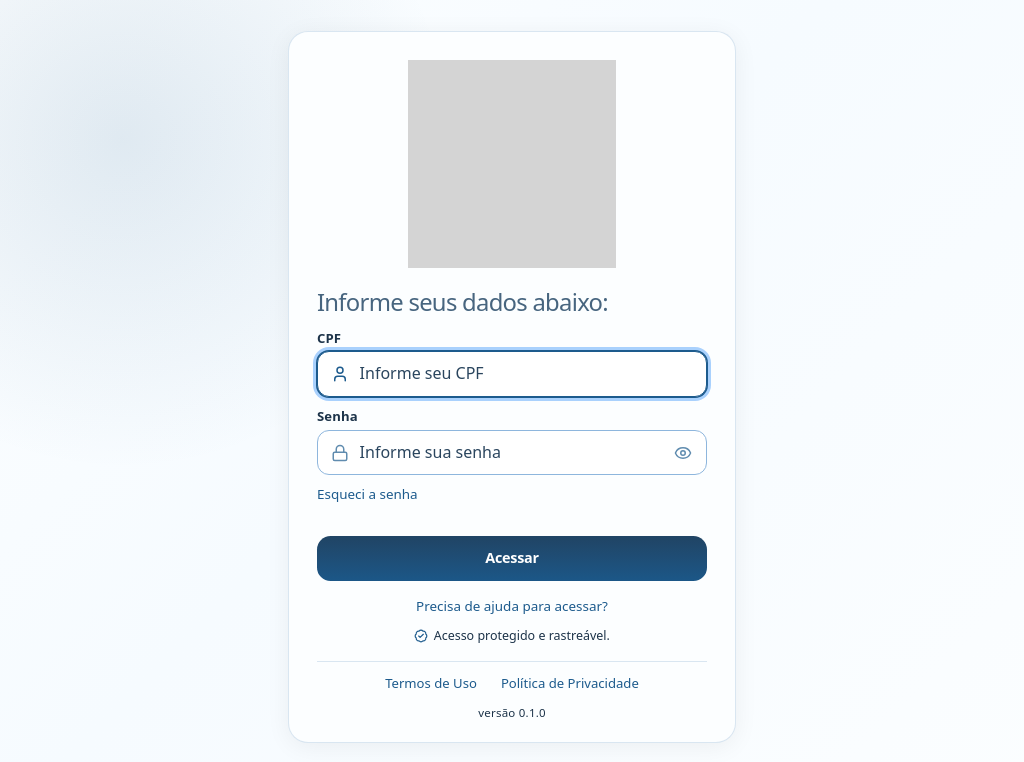
it: LoginPageClient › bloqueia submit sem token do Turnstile e mostra mensagem explícita
Type "12345678900" into the field labelled "CPF".
click(512, 374); type("12345678900")  # box [317, 351, 707, 397]
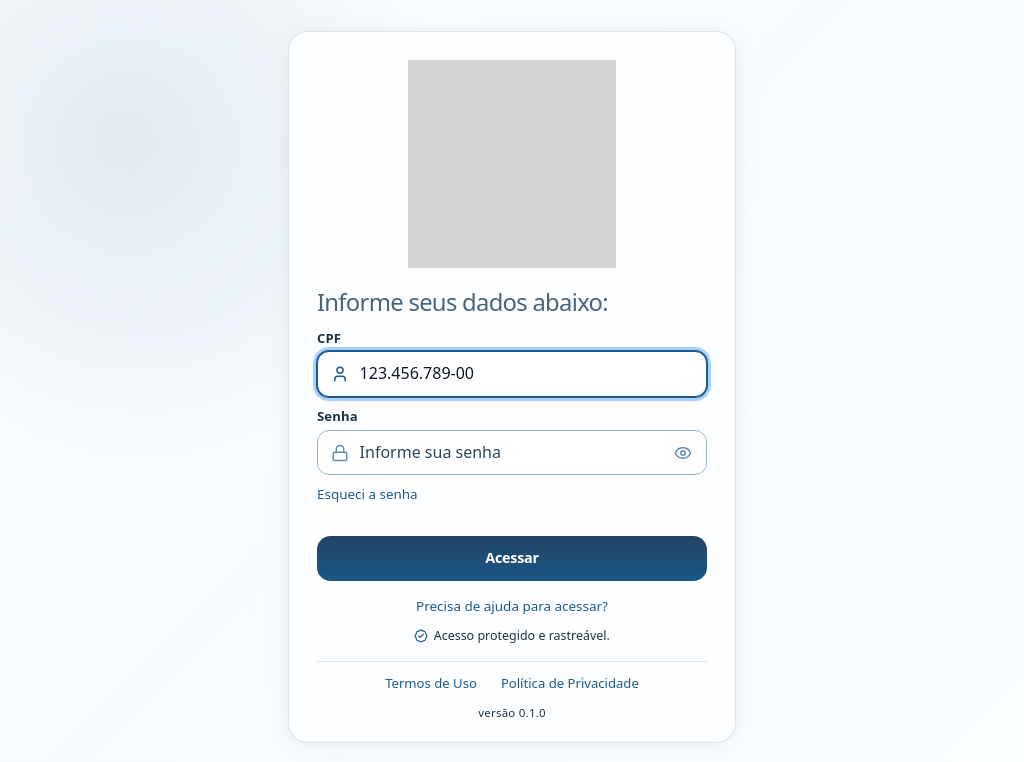
Type "Senha@123" into the password field labelled "Senha".
click(512, 452); type("Senha@123")  # box [317, 430, 707, 475]
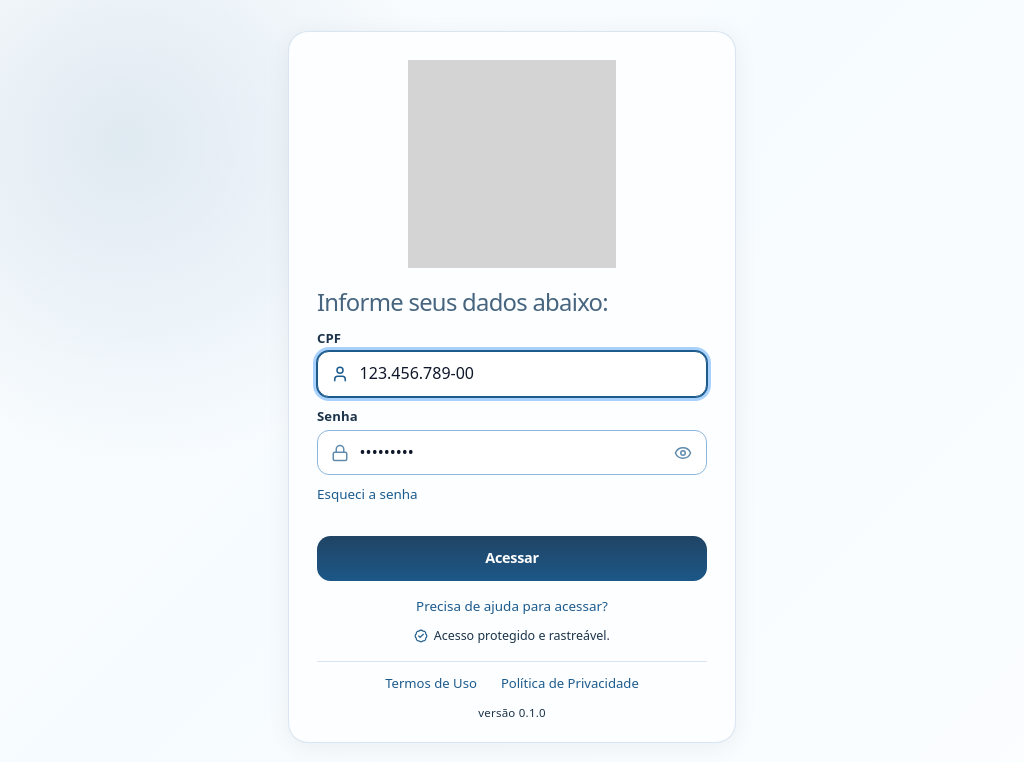
Click the button "Acessar".
click(512, 558)  # box [317, 536, 707, 581]
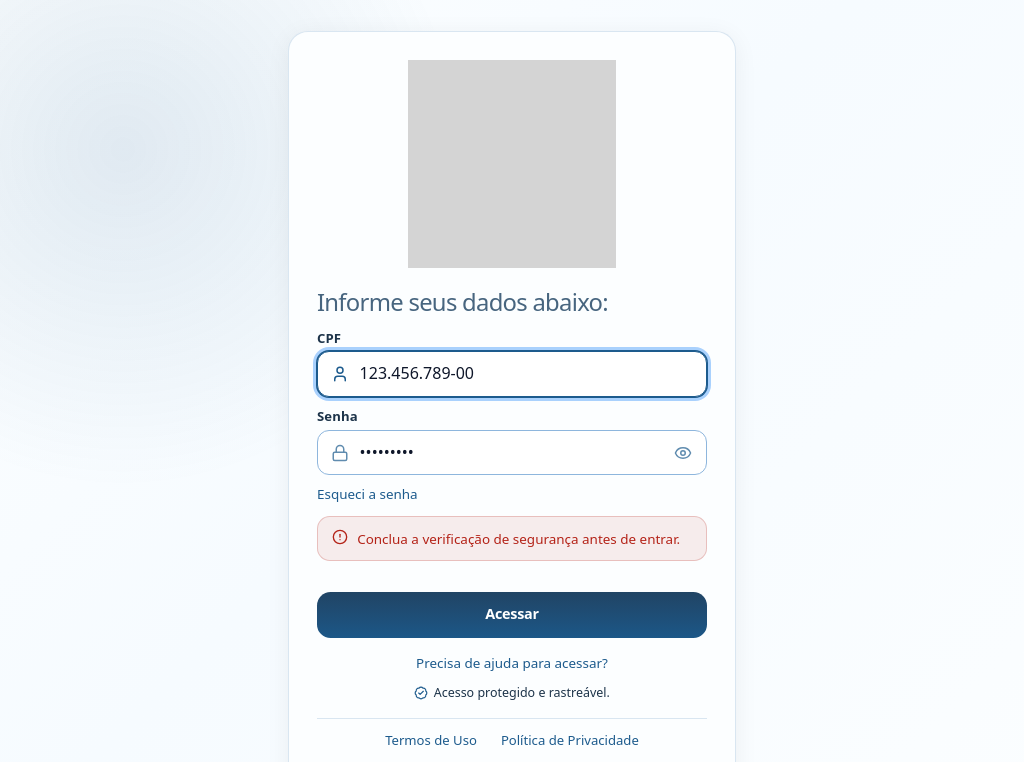
expect the message reads "Conclua a verificação de segurança antes de entrar.": met, box [357, 530, 680, 548]
